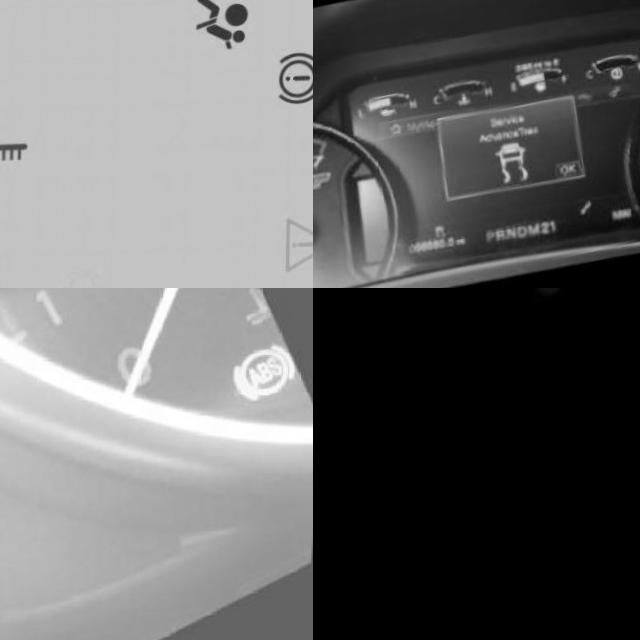Engine cooling system: (457, 96, 469, 107)
High Engine Coolant Temperature: (518, 288, 615, 322)
Low fuel level: (536, 84, 546, 95)
